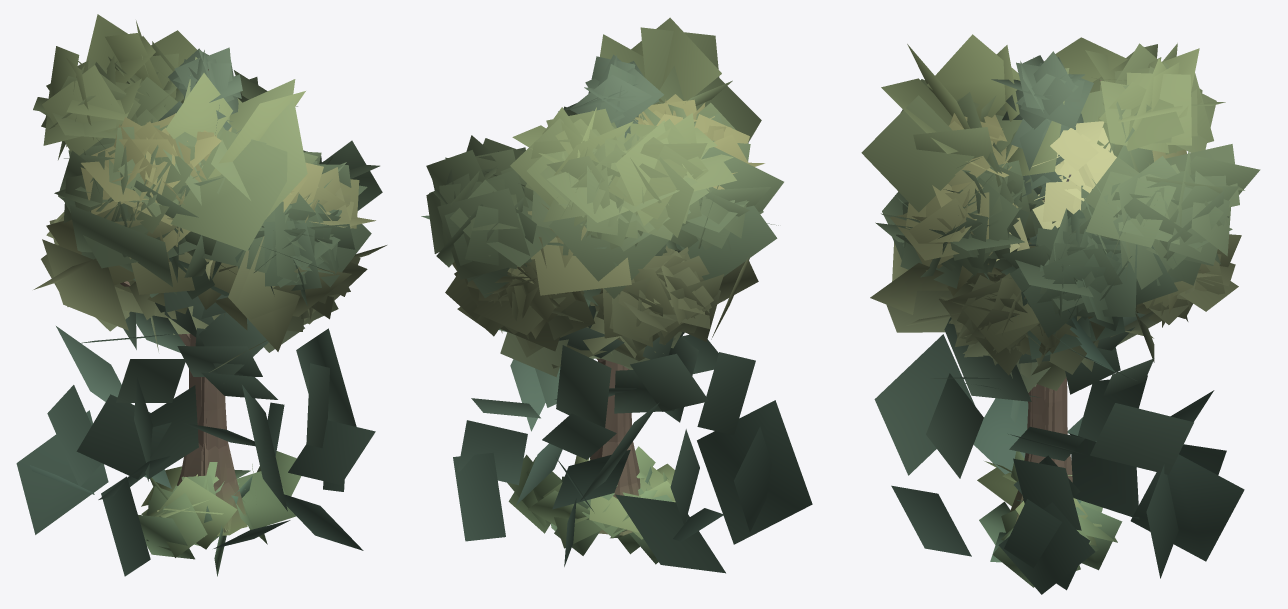
File: forest.glb
The picture shows the model from 3 angles, left to right: view 1: azimuth 30°, elevation 25°; view 2: azimuth 150°, elevation 25°; view 3: azimuth 270°, elevation 25°; orthographic projection. The views are drawn at different scales.
Visible parts, largest first — view 1: oak_a_leaf, conifer_leaf, oak_a_far_leaf, conifer_far_leaf, oak_b_far_leaf, oak_b_leaf, clump_leaf, oak_a_wood, oak_b_wood, bush_b_leaf, oak_a_far_wood; view 2: oak_a_leaf, conifer_leaf, oak_b_leaf, oak_a_far_leaf, conifer_far_leaf, clump_leaf, oak_b_far_leaf, oak_a_wood, birch_far_leaf, bush_b_leaf; view 3: oak_a_leaf, conifer_leaf, conifer_far_leaf, oak_a_far_leaf, oak_b_leaf, oak_b_far_leaf, birch_leaf, clump_leaf, oak_a_wood, oak_b_wood, birch_far_leaf.
Boxes of the visible parts, x1=… form: oak_a_leaf: x1=33, y1=14, x2=382, y2=305; conifer_leaf: x1=29, y1=47, x2=375, y2=576; oak_a_far_leaf: x1=62, y1=57, x2=318, y2=294; conifer_far_leaf: x1=16, y1=59, x2=363, y2=550; oak_b_far_leaf: x1=33, y1=206, x2=367, y2=372; oak_b_leaf: x1=41, y1=113, x2=386, y2=352; clump_leaf: x1=138, y1=451, x2=301, y2=576; oak_a_wood: x1=177, y1=333, x2=246, y2=535; oak_b_wood: x1=168, y1=318, x2=241, y2=535; bush_b_leaf: x1=180, y1=462, x2=252, y2=522; oak_a_far_wood: x1=178, y1=334, x2=247, y2=531; oak_a_leaf: x1=426, y1=101, x2=770, y2=306; conifer_leaf: x1=453, y1=54, x2=771, y2=566; oak_b_leaf: x1=445, y1=94, x2=764, y2=377; oak_a_far_leaf: x1=421, y1=17, x2=783, y2=305; conifer_far_leaf: x1=510, y1=61, x2=812, y2=573; clump_leaf: x1=507, y1=454, x2=675, y2=564; oak_b_far_leaf: x1=527, y1=203, x2=758, y2=339; oak_a_wood: x1=590, y1=360, x2=640, y2=535; birch_far_leaf: x1=551, y1=315, x2=655, y2=368; bush_b_leaf: x1=561, y1=446, x2=655, y2=508; oak_a_leaf: x1=875, y1=37, x2=1260, y2=357; conifer_leaf: x1=891, y1=51, x2=1226, y2=590; conifer_far_leaf: x1=874, y1=55, x2=1244, y2=594; oak_a_far_leaf: x1=861, y1=34, x2=1153, y2=372; oak_b_leaf: x1=890, y1=113, x2=1241, y2=392; oak_b_far_leaf: x1=870, y1=149, x2=1186, y2=386; birch_leaf: x1=996, y1=121, x2=1116, y2=261; clump_leaf: x1=977, y1=461, x2=1122, y2=587; oak_a_wood: x1=1010, y1=79, x2=1101, y2=511; oak_b_wood: x1=1024, y1=384, x2=1045, y2=461; birch_far_leaf: x1=1031, y1=330, x2=1153, y2=390.
Size of the model in its own units: 26.48 by 37.9 by 28.9.
